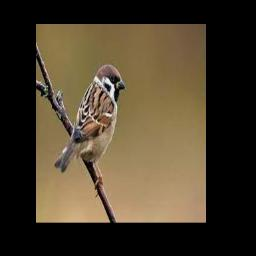Sparrow: (54, 64, 125, 192)
